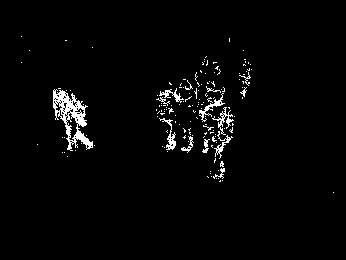person: (202, 87, 235, 186), (52, 86, 96, 152), (172, 78, 197, 153), (155, 80, 179, 151)
